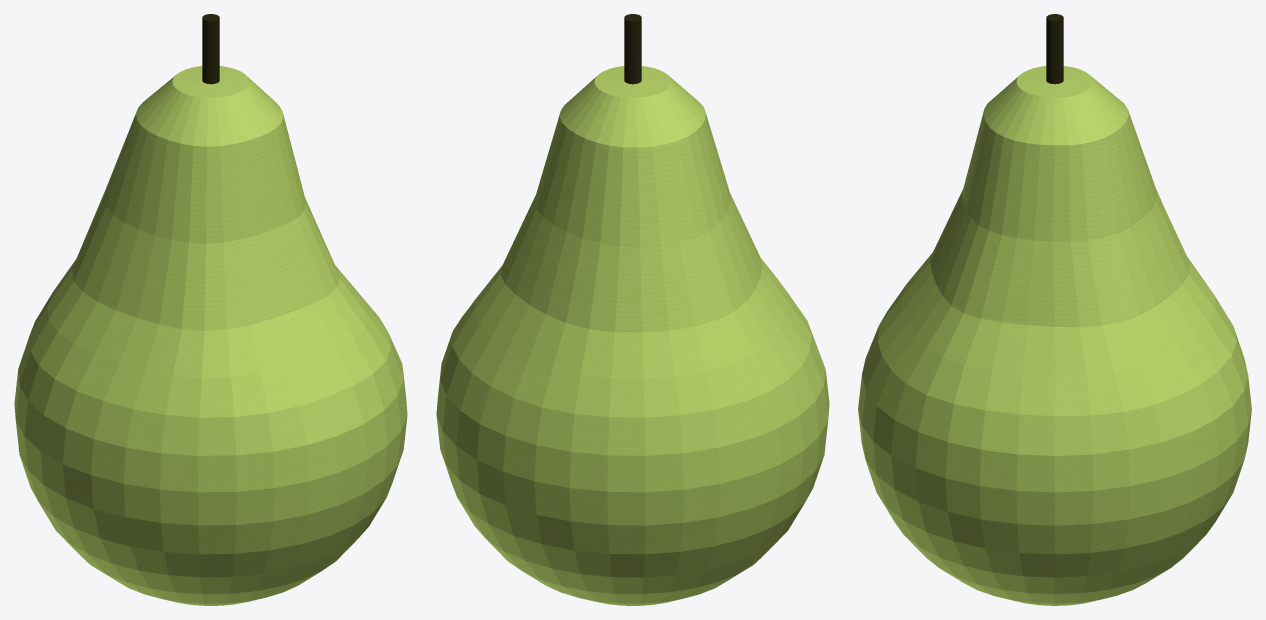
Rendered from buah4.fbx.
3 renders of one model, left to right at view 1: azimuth 30°, elevation 25°; view 2: azimuth 150°, elevation 25°; view 3: azimuth 270°, elevation 25°, orthographic.
Visible parts, largest first — view 1: Sphere.001; view 2: Sphere.001; view 3: Sphere.001.
Boxes of the visible parts, bbox=[...] form: Sphere.001: bbox=[14, 14, 407, 605]; Sphere.001: bbox=[436, 14, 829, 605]; Sphere.001: bbox=[858, 14, 1251, 605].
Size of the model in its own units: 200 by 319 by 200.
